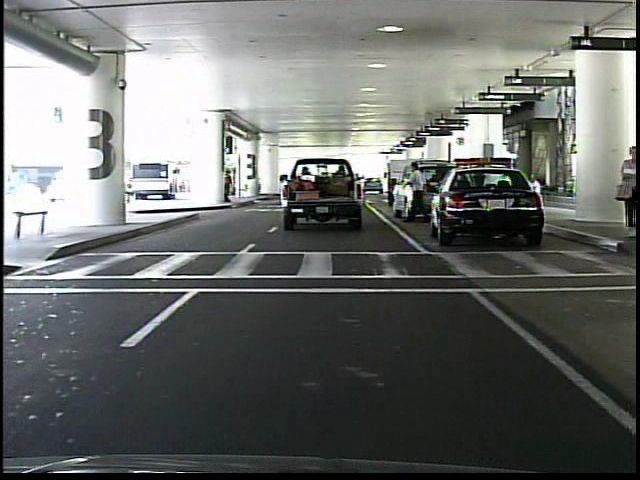person: (613, 146, 637, 240), (407, 158, 429, 226), (223, 162, 237, 204)
